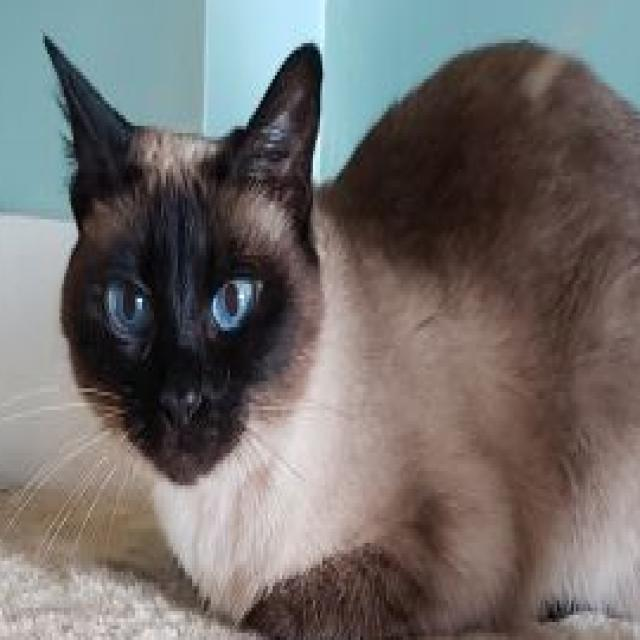Siamese: (38, 25, 640, 640)
